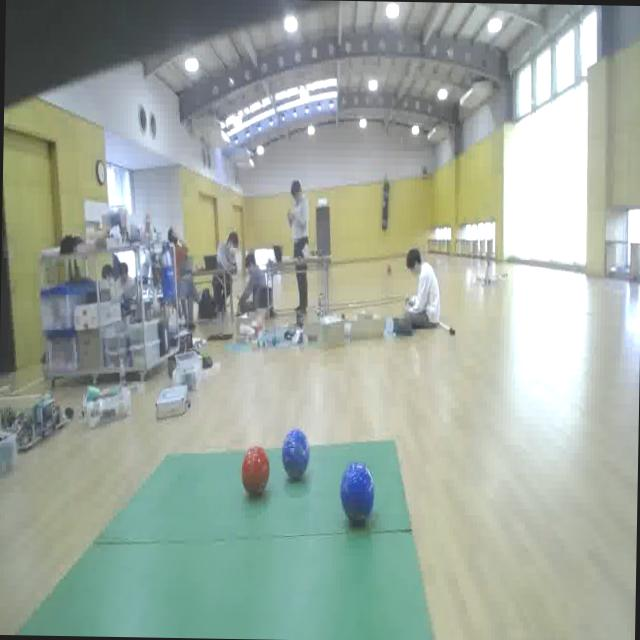blue_ball: (338, 458, 374, 528), (280, 424, 312, 480)
red_ball: (240, 444, 270, 496)
